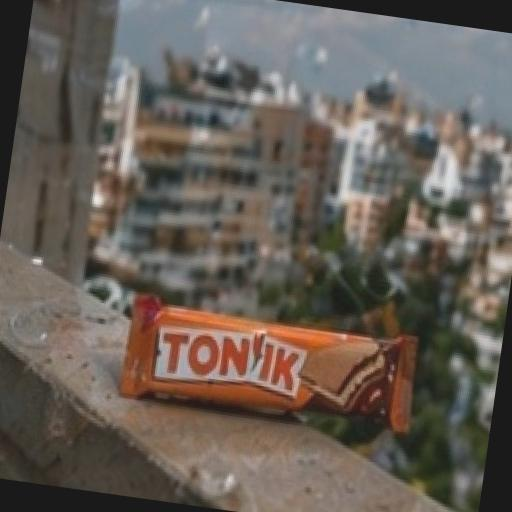tonik: (70, 199, 495, 512)
